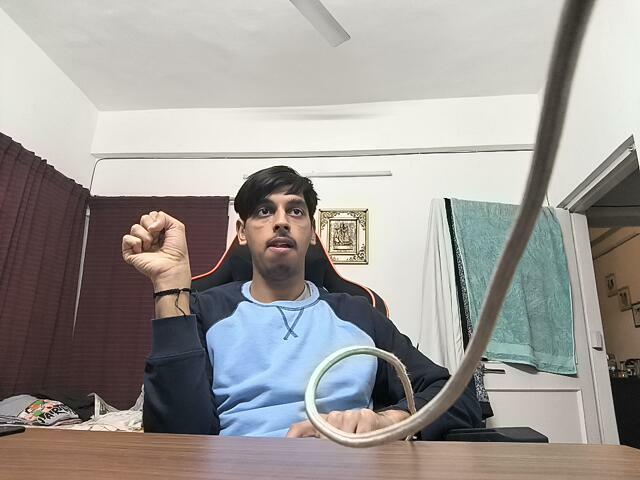DOWN: (118, 209, 197, 278)
